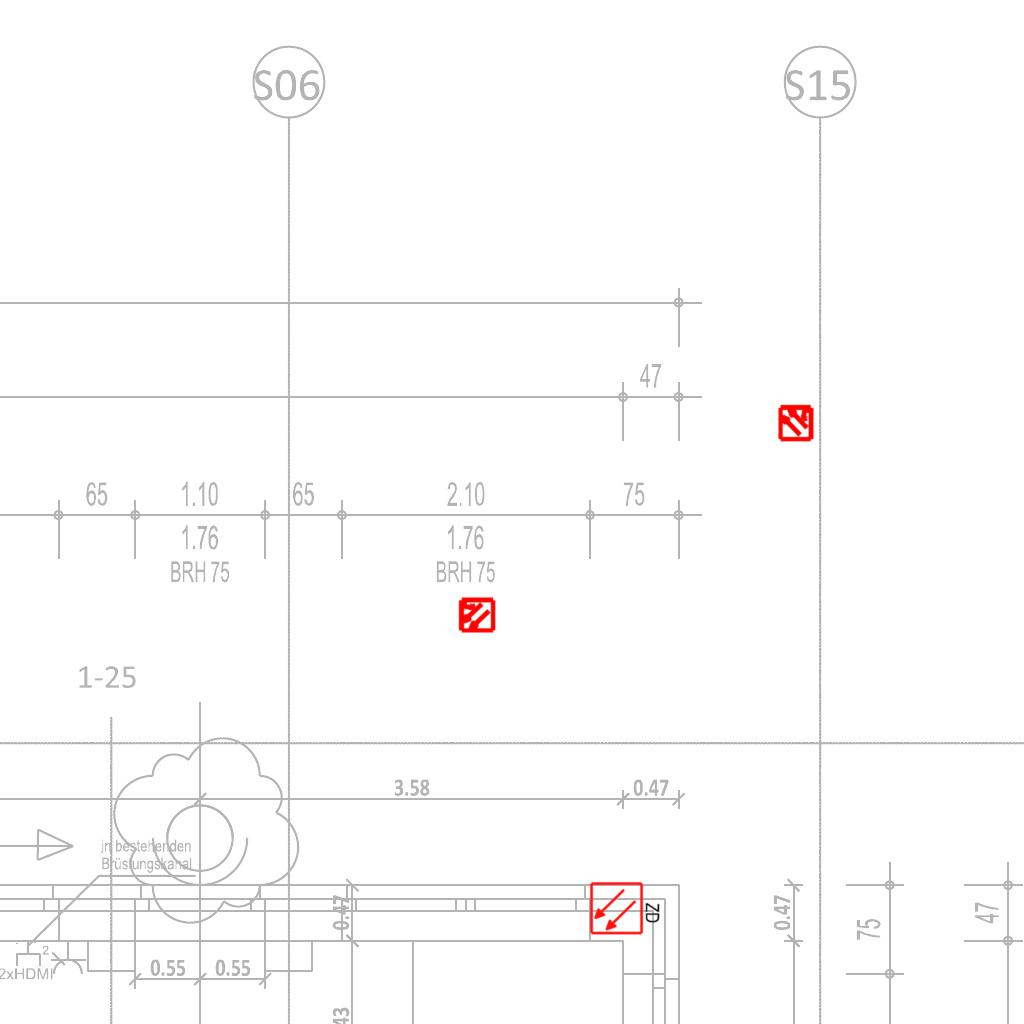OT_Multisensormelder_(Kombination_RMO_WMD): (768, 394, 824, 450), (448, 587, 504, 643)
ZD_Melder_in_Zwischendecke_mit_Revisionsoeffnung_mind_40_x_40_cm: (589, 879, 663, 936)
